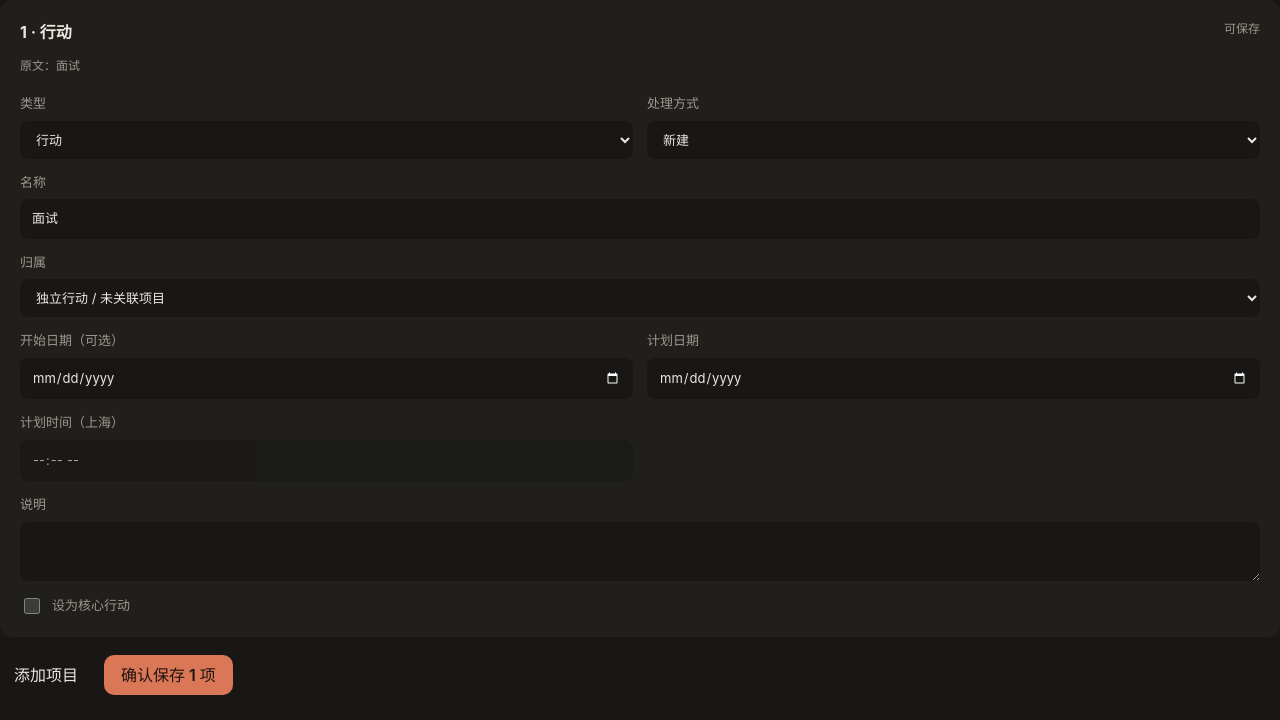
stale title duplicate response cannot apply to edited preview
This screenshot has width=1280, height=720.
Step 1. Type "A" into the field labelled "名称" → point(640, 219), box x1=20 y1=199 x2=1260 y2=239
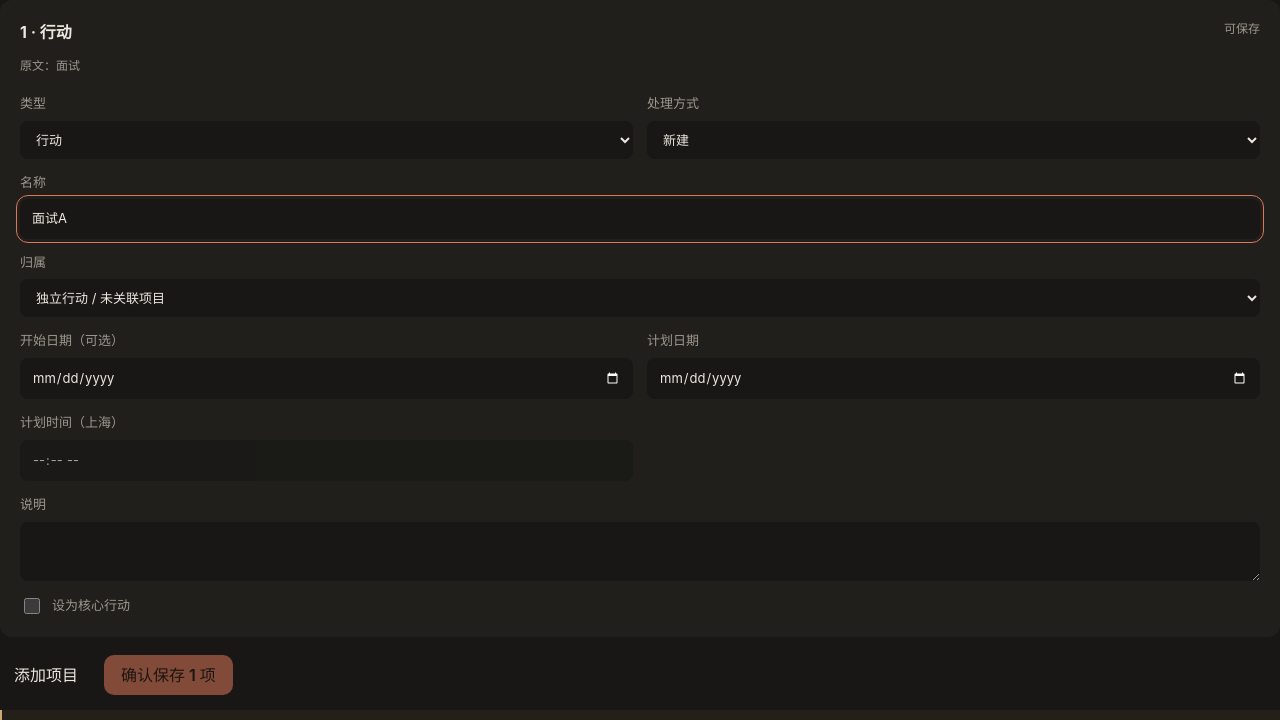
Step 2. Type "B" into the field labelled "名称" → point(640, 219), box x1=20 y1=199 x2=1260 y2=239
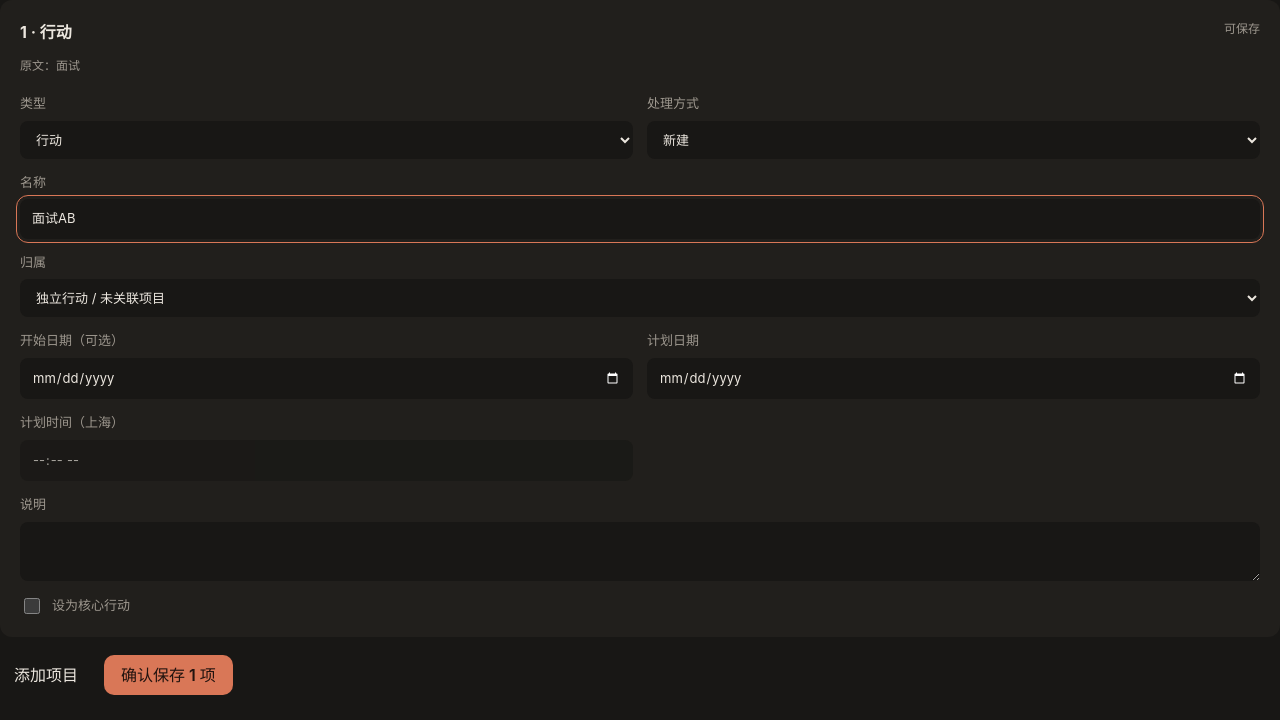
Expected: the button "确认保存 1 项" is enabled, x1=104 y1=655 x2=233 y2=695
